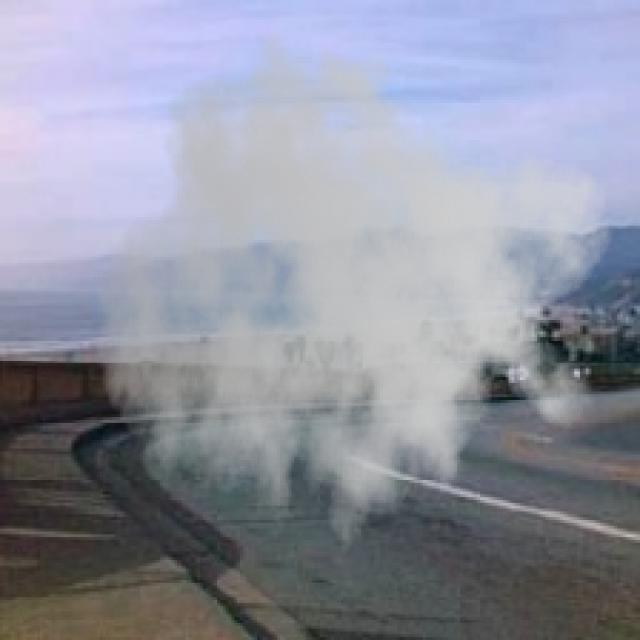smoke: (95, 17, 614, 577)
